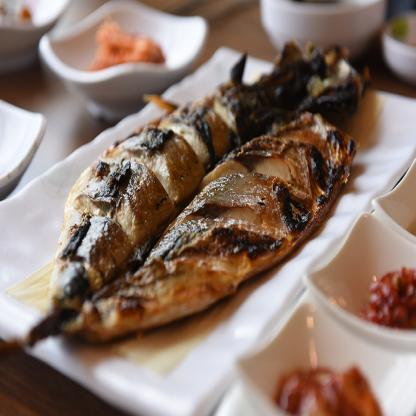Peixe: (35, 37, 362, 373)
